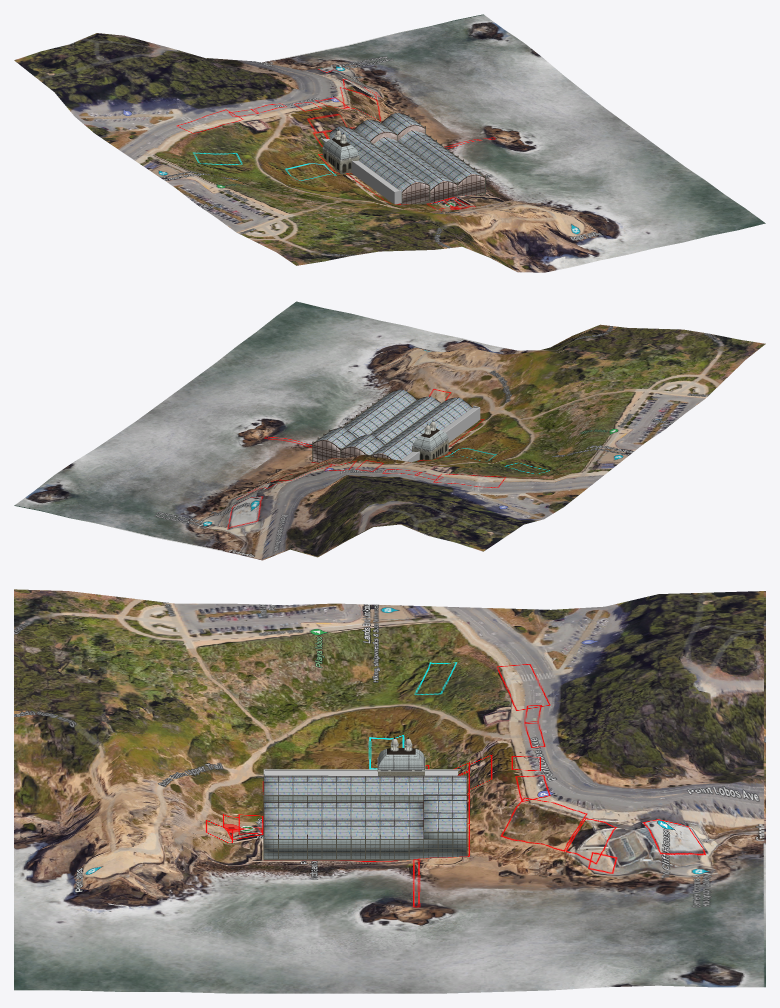
The model's file is bath_structure_with_backside_trimmed.fbx.
The picture shows the model from 3 angles, top to bottom: view 1: azimuth 30°, elevation 25°; view 2: azimuth 150°, elevation 25°; view 3: azimuth 270°, elevation 25°; orthographic projection. The views are drawn at different scales.
Visible parts, largest first — view 1: Terrain, front, front.002, front.003, back, dome; view 2: Terrain, front, front.003, front.002, back, dome; view 3: Terrain, front, front.003, front.002, dome, back.
Boxes of the visible parts, x1=… form: Terrain: x1=14, y1=14, x2=765, y2=272; front: x1=382, y1=113, x2=484, y2=196; front.002: x1=354, y1=119, x2=457, y2=202; front.003: x1=330, y1=126, x2=429, y2=204; back: x1=323, y1=138, x2=401, y2=204; dome: x1=323, y1=138, x2=358, y2=159; Terrain: x1=14, y1=301, x2=765, y2=560; front: x1=313, y1=389, x2=415, y2=462; front.003: x1=372, y1=397, x2=471, y2=460; front.002: x1=341, y1=396, x2=440, y2=458; back: x1=401, y1=407, x2=480, y2=462; dome: x1=412, y1=429, x2=447, y2=450; Terrain: x1=14, y1=589, x2=765, y2=993; front: x1=264, y1=812, x2=466, y2=858; front.003: x1=264, y1=775, x2=466, y2=801; front.002: x1=264, y1=794, x2=466, y2=819; dome: x1=378, y1=748, x2=424, y2=769; back: x1=265, y1=771, x2=458, y2=775.
Size of the model in its own units: 41549 by 6800 by 43291.
